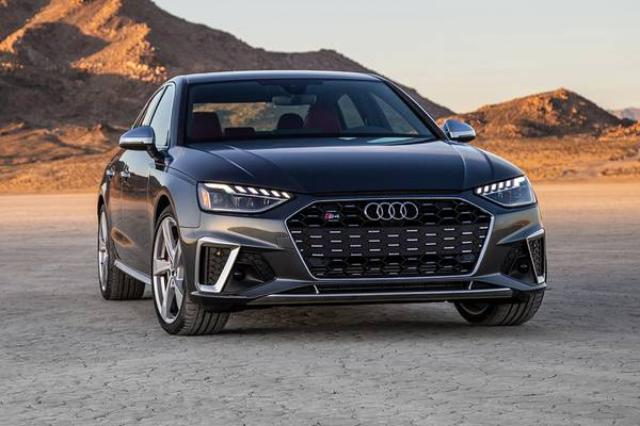audi: (96, 69, 548, 336)
